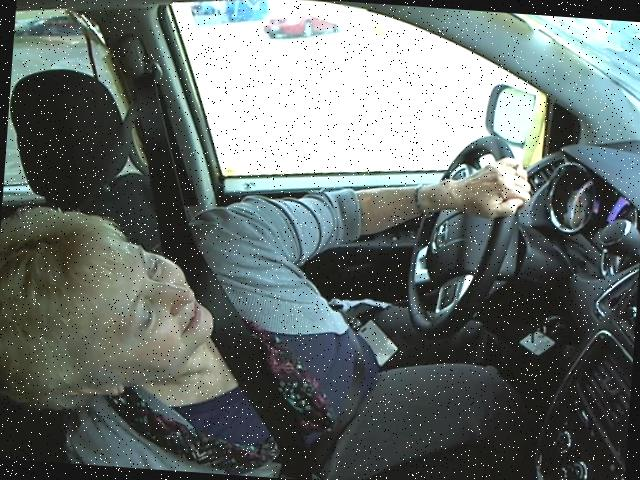c5 - Reaching Behind: (0, 59, 538, 432)
